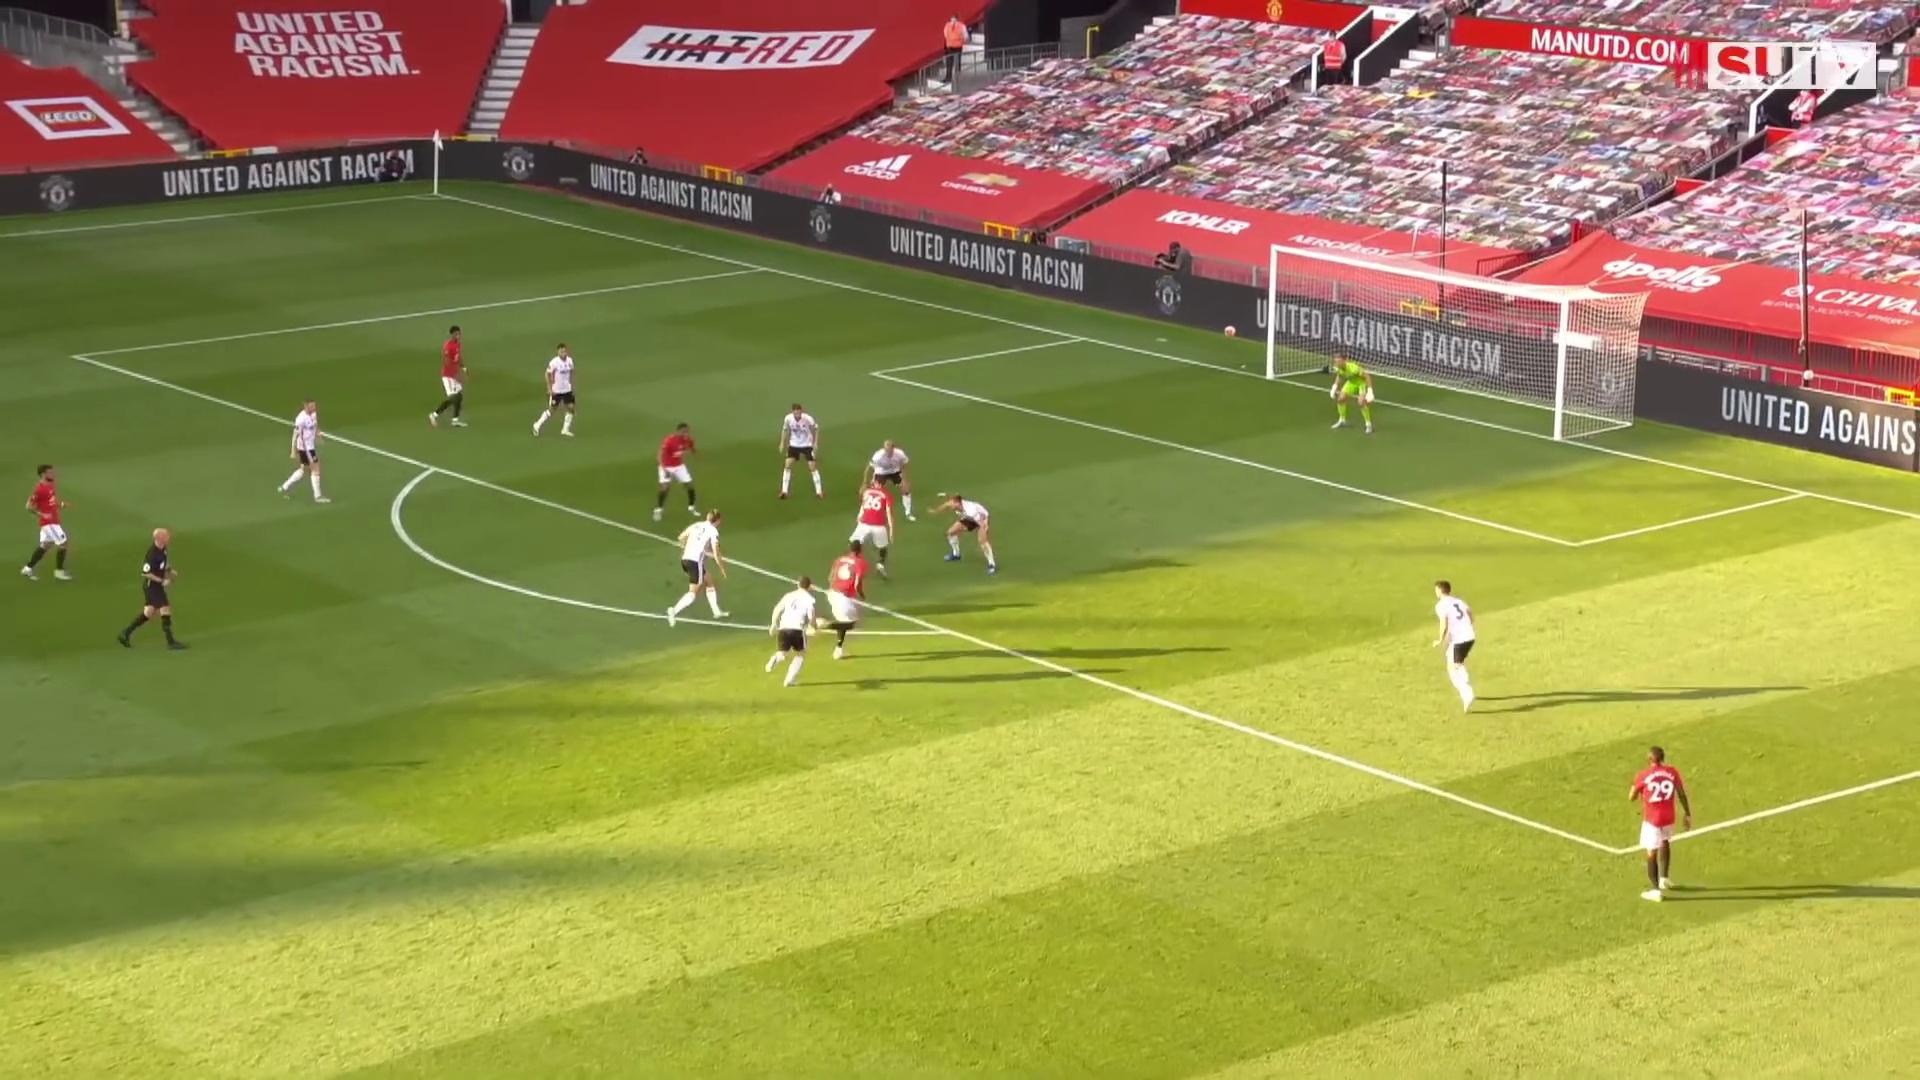ball: (1224, 322, 1238, 339)
goalkeeper: (1324, 347, 1380, 439)
player: (1628, 742, 1697, 907), (662, 506, 735, 634), (16, 460, 84, 586), (1427, 578, 1483, 719), (761, 575, 827, 693), (807, 544, 869, 664), (273, 393, 335, 509), (935, 487, 1010, 577), (843, 472, 900, 581), (429, 321, 482, 434), (772, 397, 827, 503), (530, 340, 585, 444), (654, 418, 706, 523), (859, 434, 917, 522)
referee: (113, 525, 190, 659)
